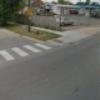crosswalks: (0, 43, 52, 62)
